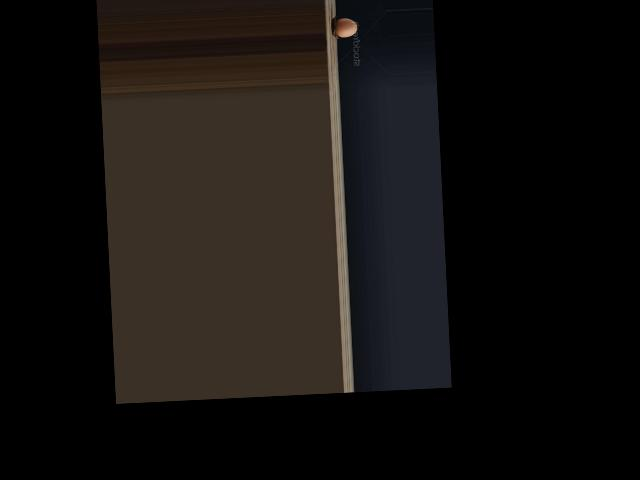egg: (335, 17, 357, 37)
